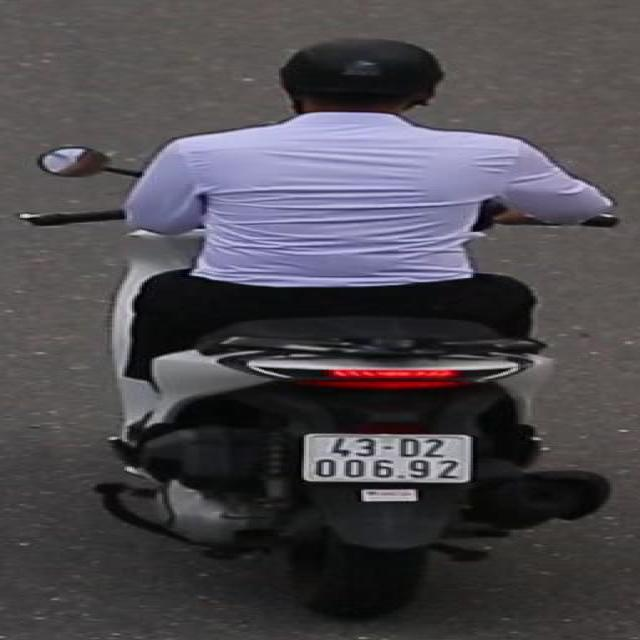LP: (295, 430, 482, 490)
helmet: (268, 30, 452, 139)
